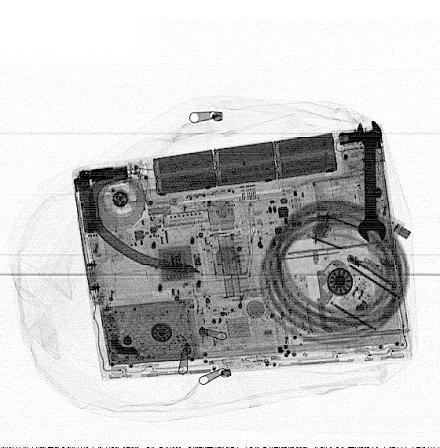Wrench: (356, 117, 389, 245)
